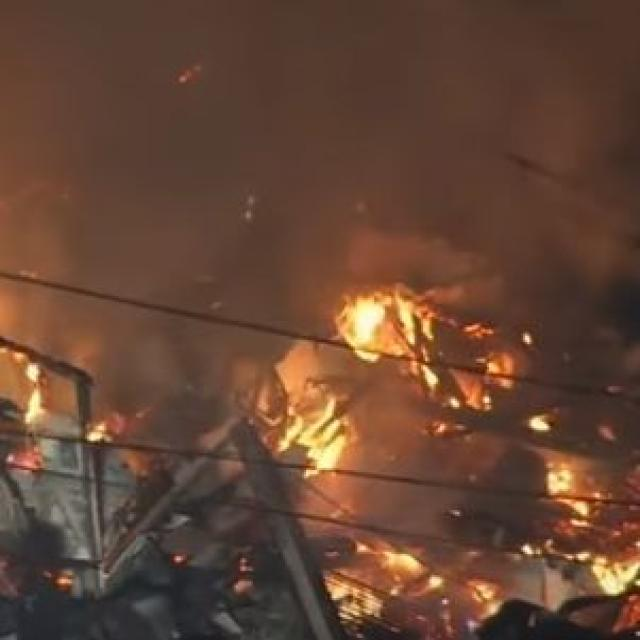Fire: (4, 262, 640, 638)
Smoke: (10, 0, 640, 413)
